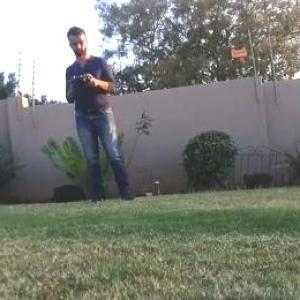follow: (61, 15, 143, 208)
